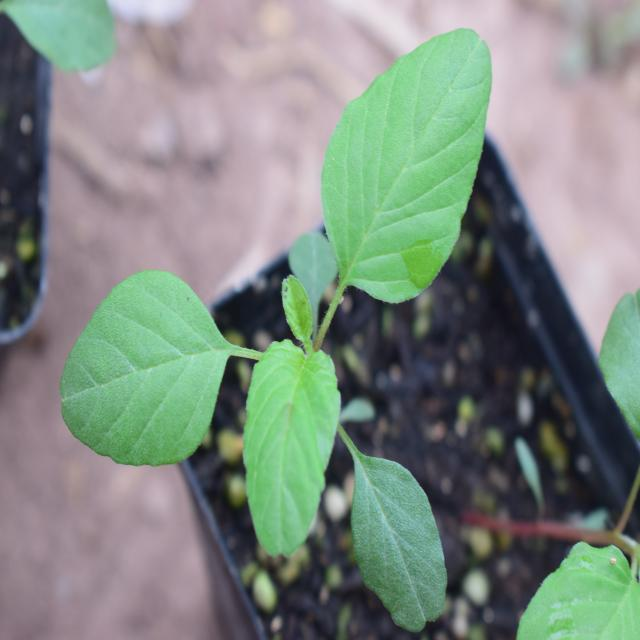pigweed: (75, 52, 498, 584)
